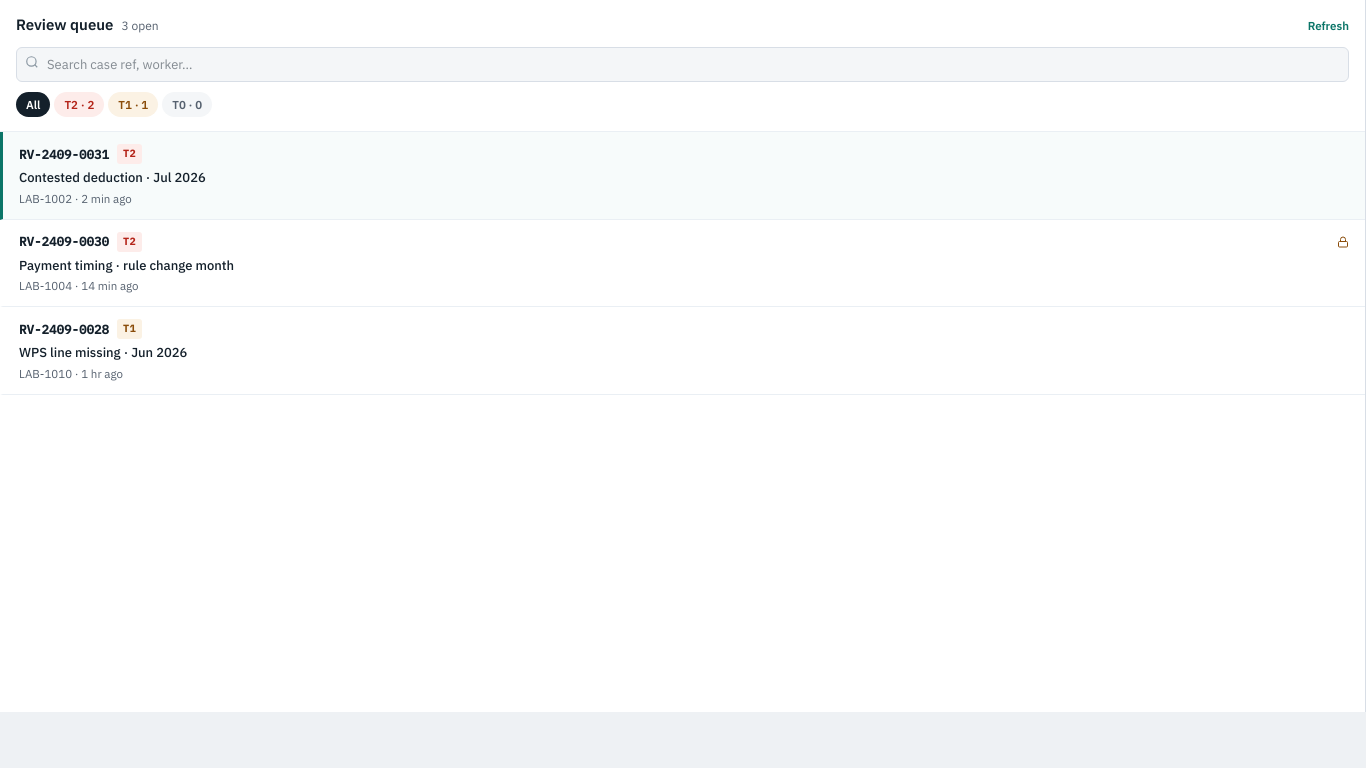
Test: ReviewQueue — API integration › searches by reference, title and worker (case_ref)
Expected: the number of list items is 3, 0,132 -> 1365,220; 0,220 -> 1365,307; 0,307 -> 1365,395
Type "timing" into the search field named "Search queue".
click(682, 64); type("timing")  # box 16,46 -> 1349,82
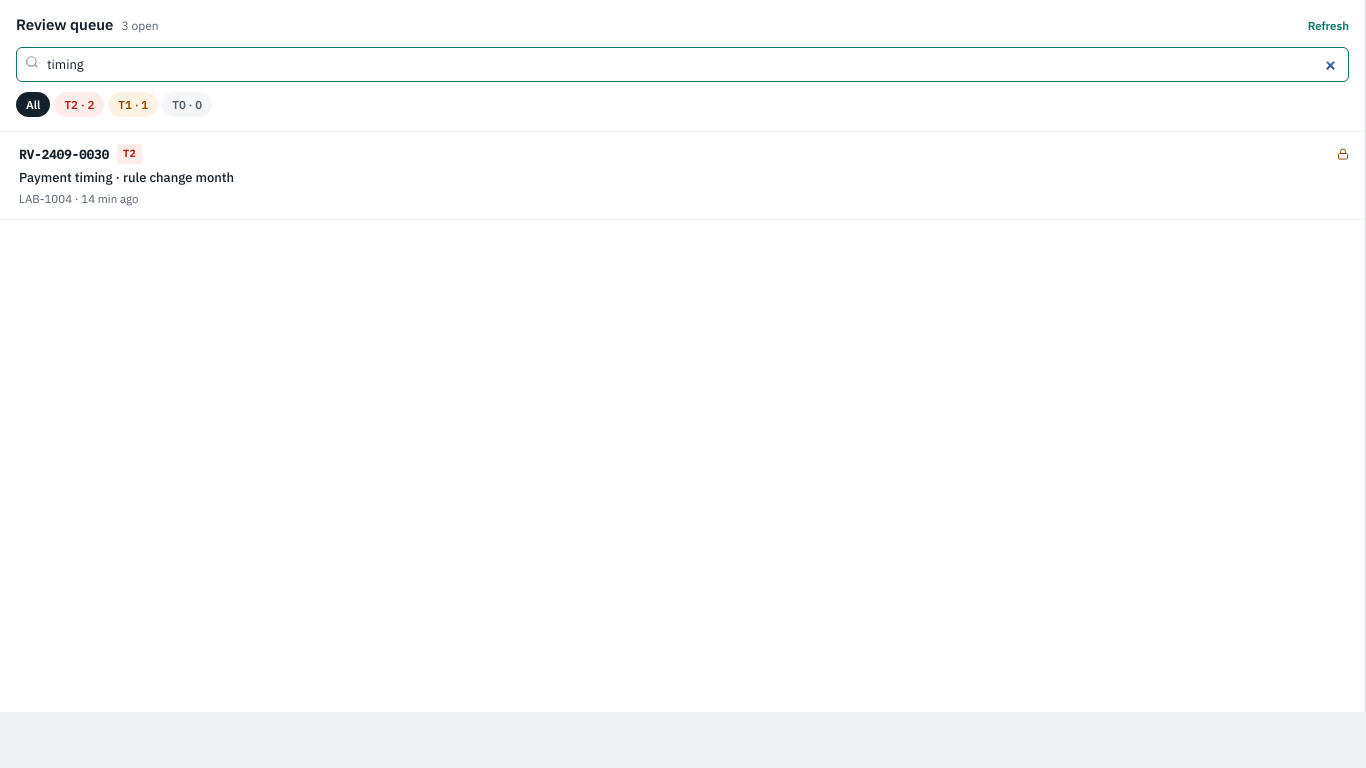
Expected: the text "RV-2409-0030" is shown, 19,145 -> 109,164
Expected: the number of list items is 1, 0,132 -> 1365,220
Replace the text in the search field named "Search queue" with "LAB-1010" at point(682, 64), box 16,46 -> 1349,82
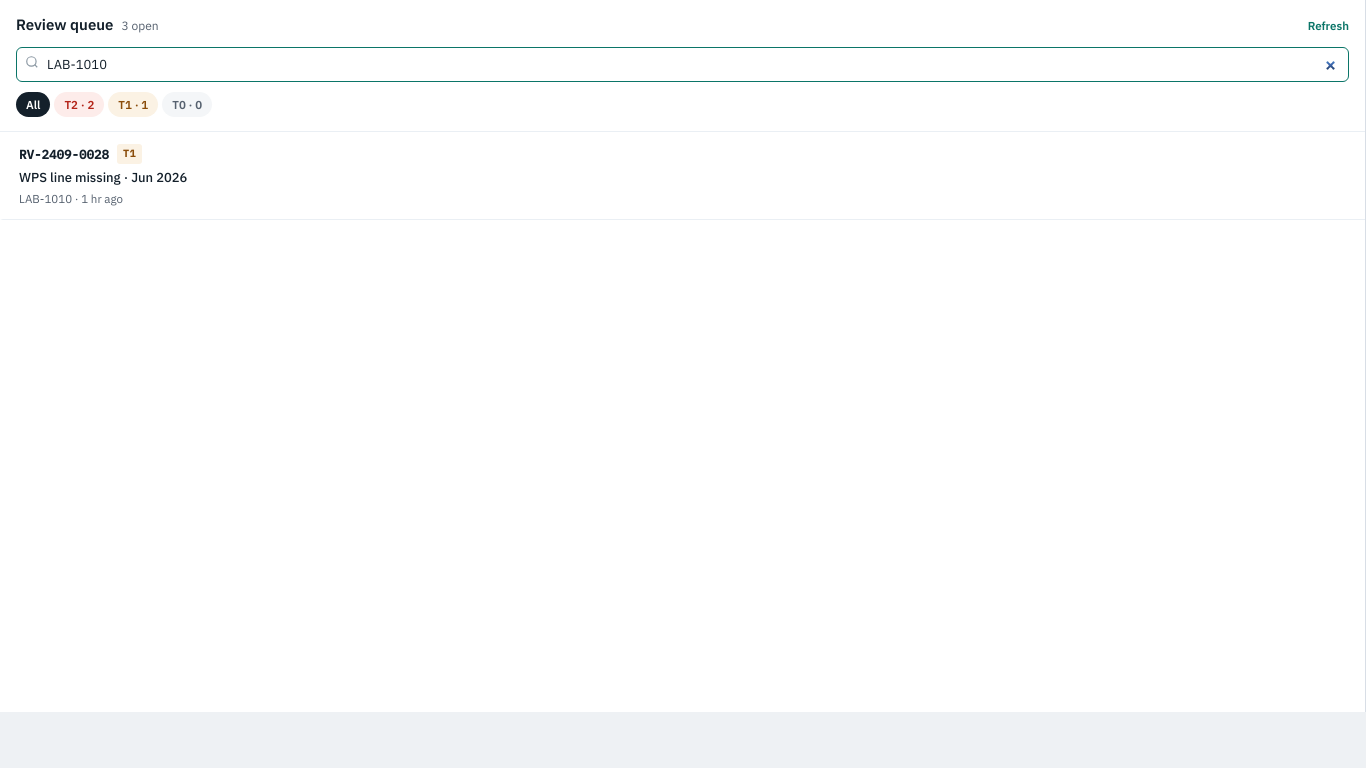
Expected: the text "RV-2409-0028" is shown, 19,145 -> 109,164
Replace the text in the search field named "Search queue" with "nothing-matches-this" at point(682, 64), box 16,46 -> 1349,82
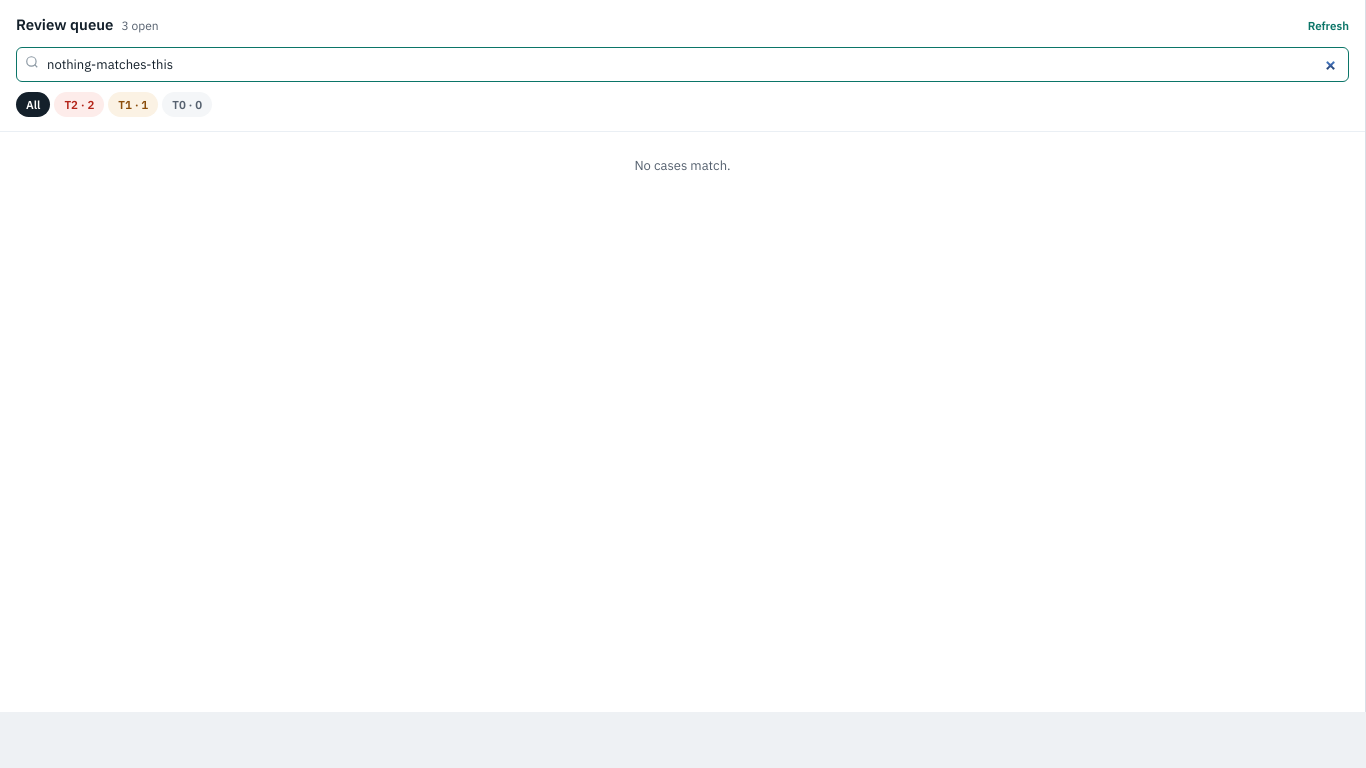
Expected: the list item "No cases match." is shown, 634,157 -> 731,174
